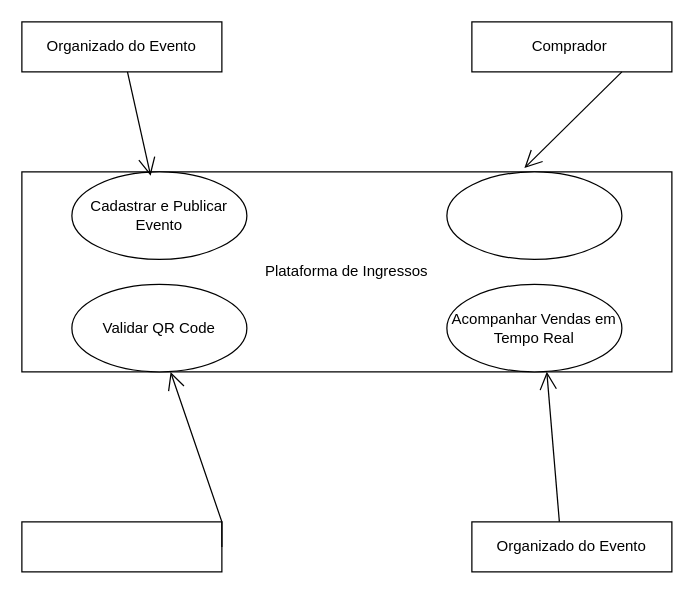
The diagram is 694 pixels wide and 594 high, and some of its shapes have lost their labels. Each missing label, with the centre of its shape:
"Comprar Ingresso" goes at (x=534, y=215).
"Operador de Portaria" goes at (x=121, y=546).
